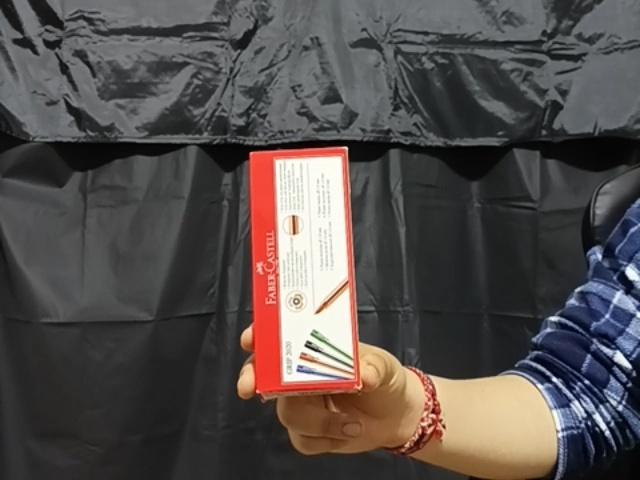xd: (247, 147, 364, 393)
